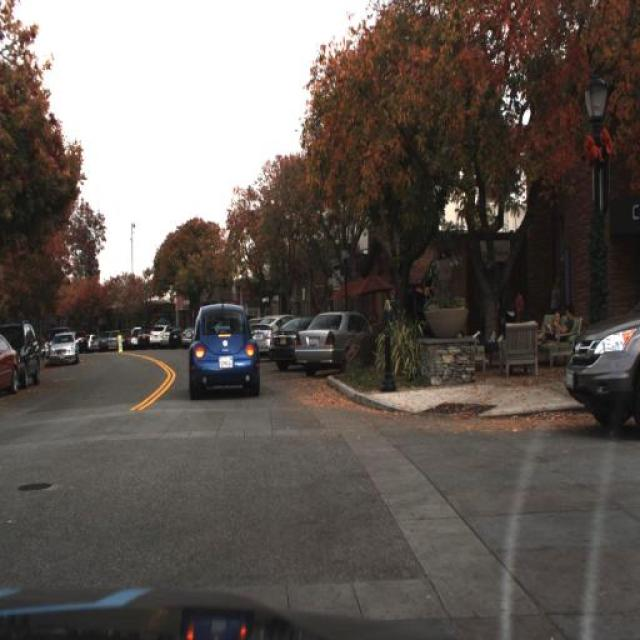car: (562, 310, 638, 432), (183, 292, 259, 402), (293, 311, 378, 377), (269, 314, 310, 374), (7, 317, 42, 387), (1, 329, 22, 398), (250, 313, 278, 361), (48, 332, 82, 366), (149, 322, 169, 348)
trafficLight: (533, 306, 578, 348), (502, 280, 516, 334), (549, 271, 563, 320), (382, 292, 392, 328), (514, 286, 527, 312)
